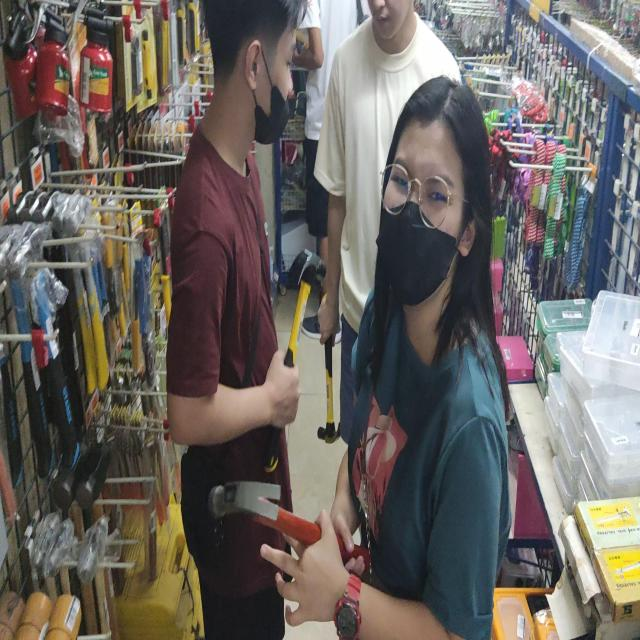hammer: (208, 470, 370, 586), (275, 248, 328, 428), (317, 332, 341, 444)
